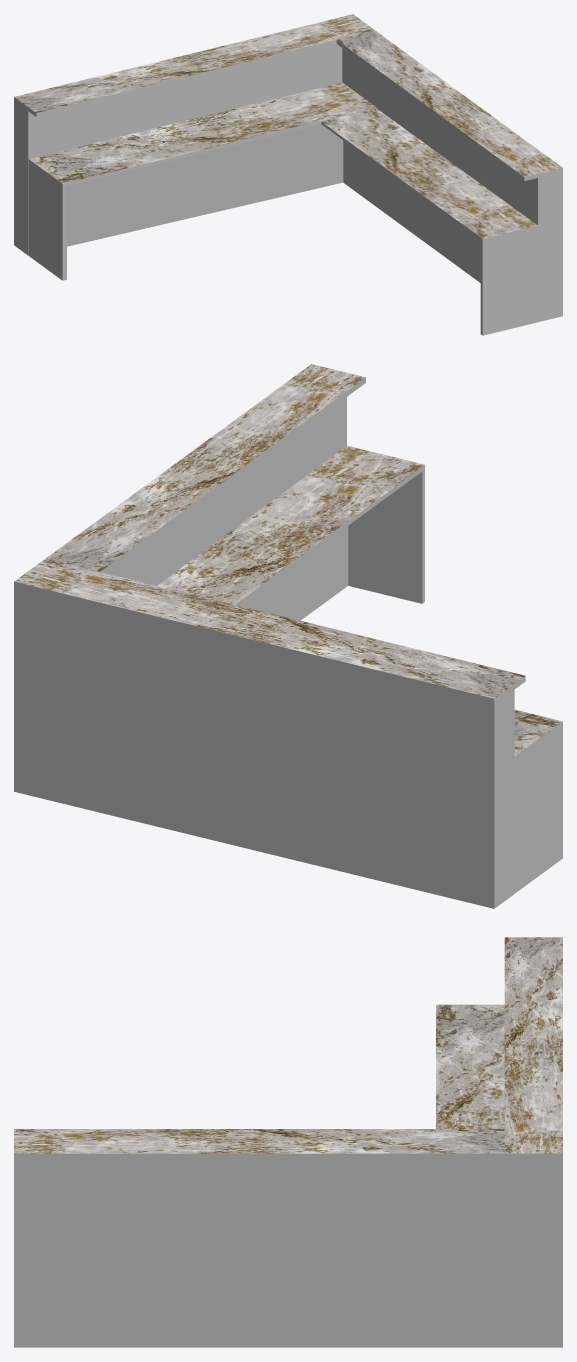
Rendered from Lobby Desk simple .fbx.
3 renders of one model, top to bottom at view 1: azimuth 30°, elevation 25°; view 2: azimuth 150°, elevation 25°; view 3: azimuth 270°, elevation 25°, orthographic. The views are drawn at different scales.
Visible parts, largest first — view 1: pCube35, pCube29, pCube34, pCube33; view 2: pCube29, pCube34, pCube33, pCube35; view 3: pCube33, pCube29, pCube35.
Boxes of the visible parts, <box> form: pCube35: <box>28,82,376,280</box>; pCube29: <box>14,14,374,255</box>; pCube34: <box>321,108,548,335</box>; pCube33: <box>336,30,562,319</box>; pCube29: <box>14,558,525,908</box>; pCube34: <box>157,445,424,620</box>; pCube33: <box>46,364,365,585</box>; pCube35: <box>514,709,562,893</box>; pCube33: <box>14,1129,525,1347</box>; pCube29: <box>504,937,562,1347</box>; pCube35: <box>436,1004,504,1128</box>.
Bounding box in the file's own units: 12.25 × 5.12 × 13.14.
2 materials, 1 textured.
